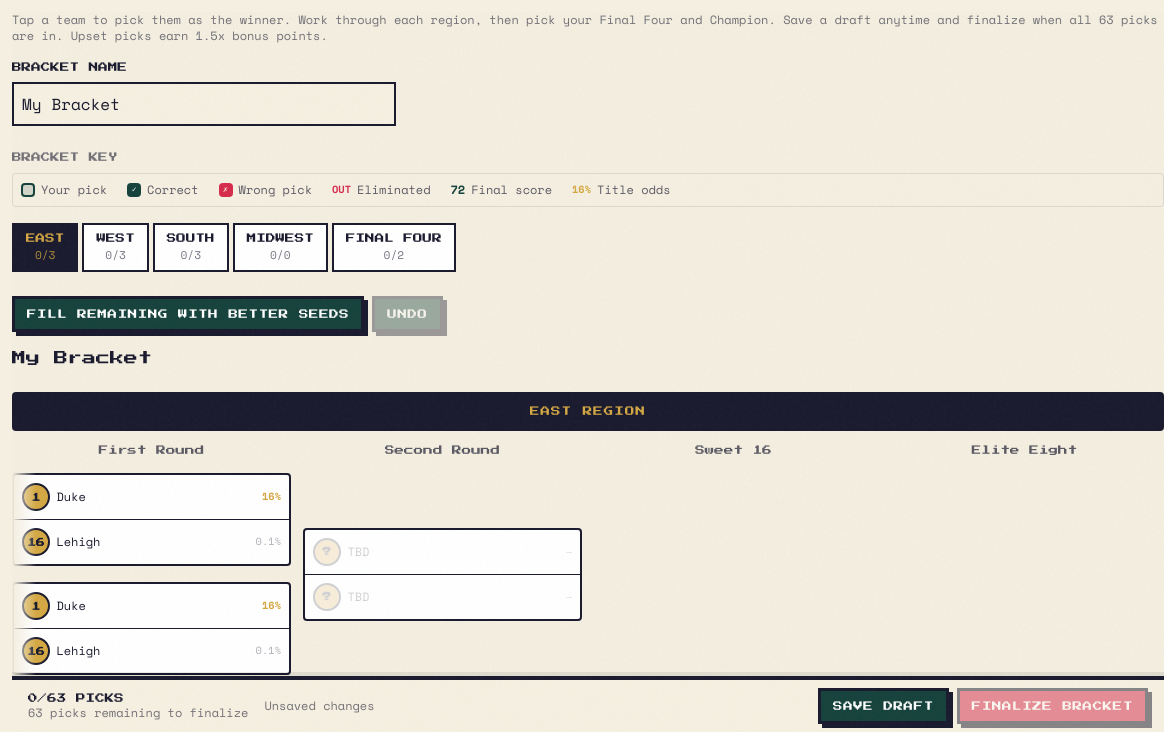
Test: BracketBuilder › 401 shows a session-expired link back to the bracket
Click the button "Save Draft" at (884, 706), box [818,688,949,724]
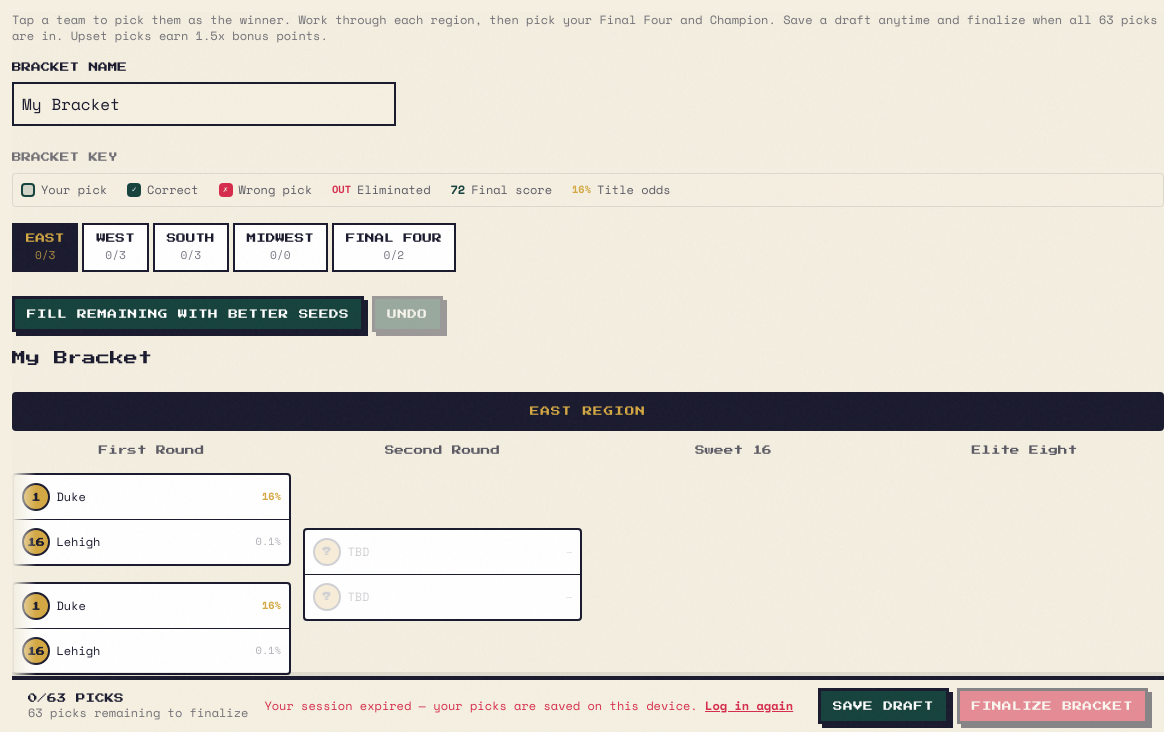
Expected: the message shows "session expired", [264,697,698,714]
